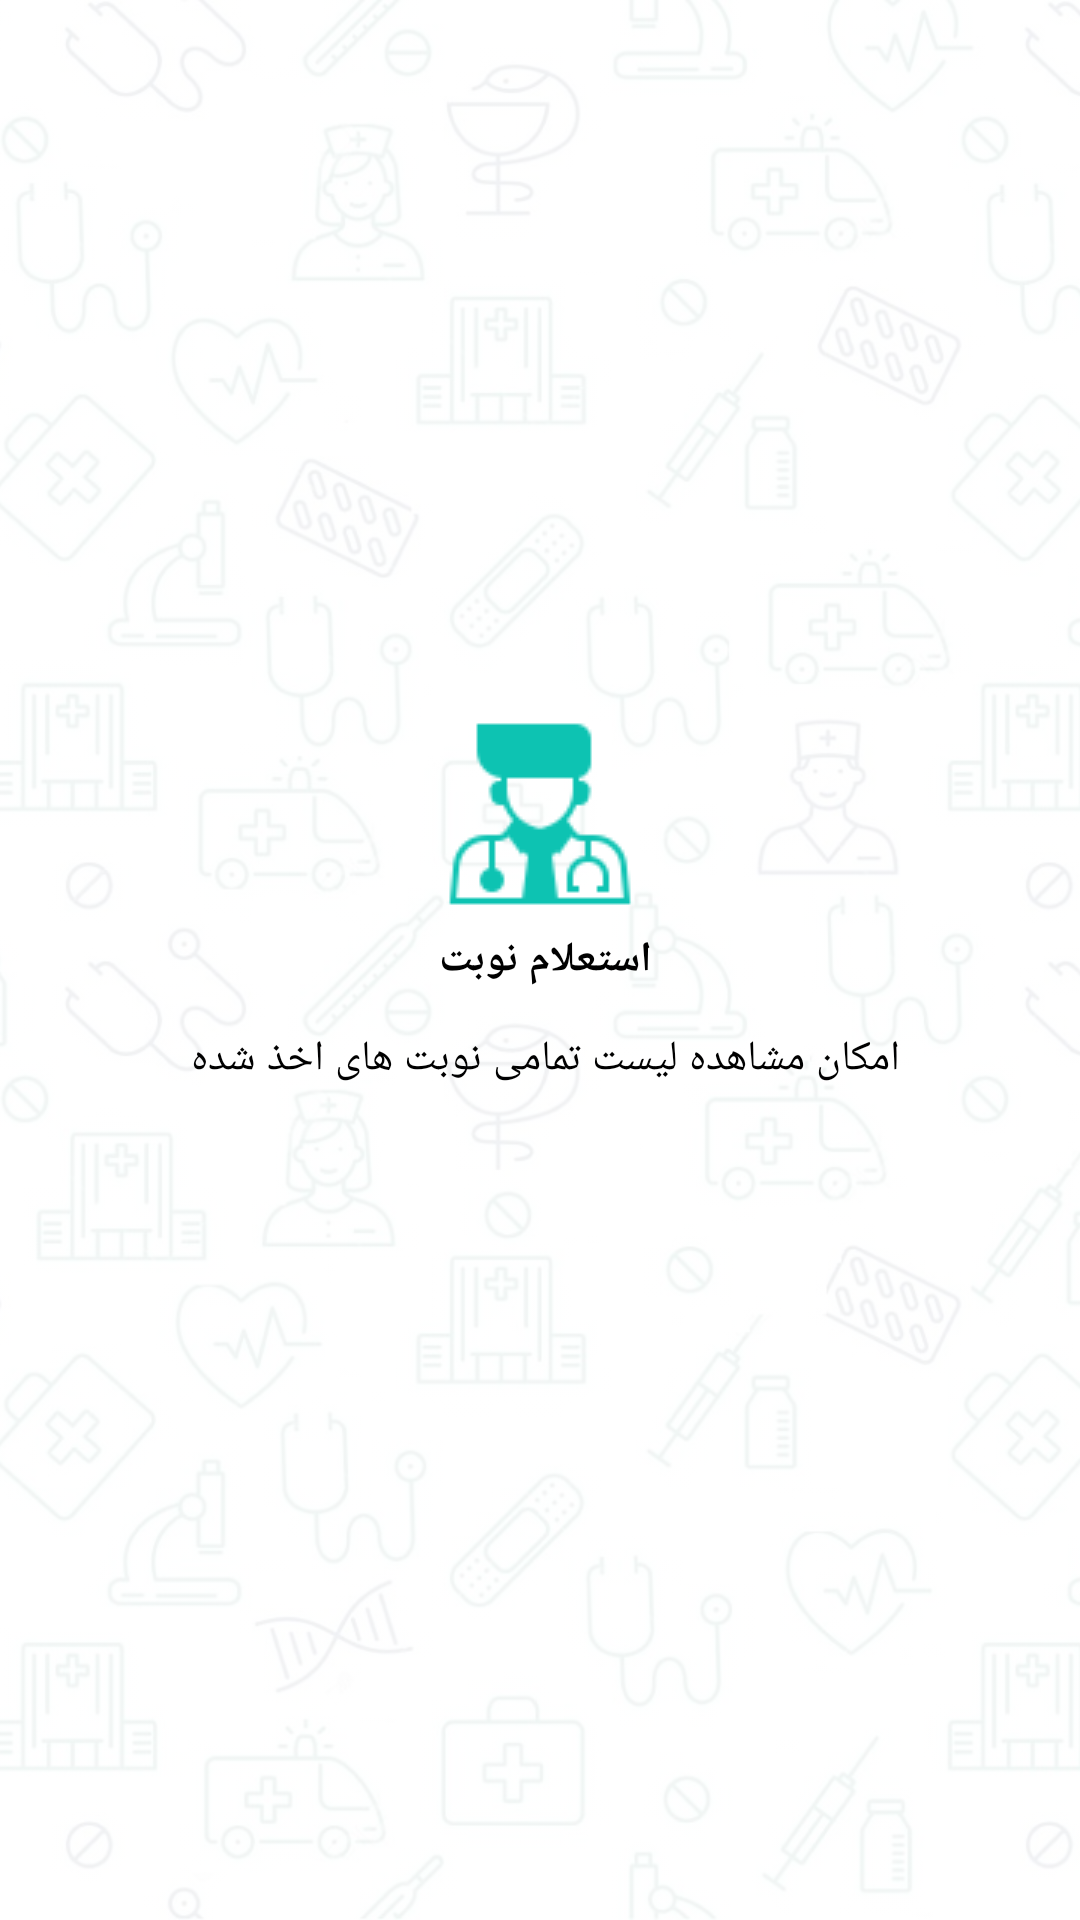

Icons on this 1080px x 1920px Android screen, each with the point to tap as [x,y]:
doctor: [540,814]
